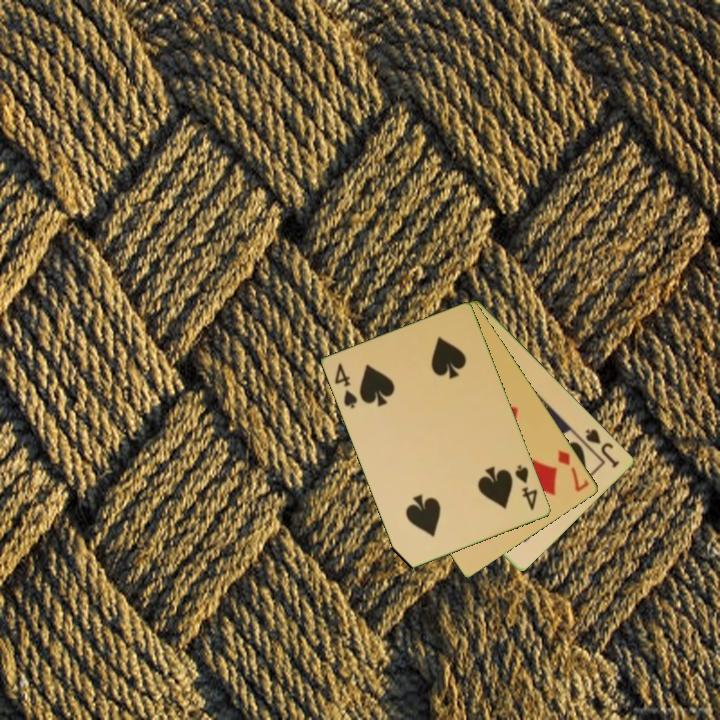4s: (512, 461, 541, 514), (331, 360, 361, 411)
7d: (554, 447, 592, 495)
Js: (582, 425, 623, 471)
